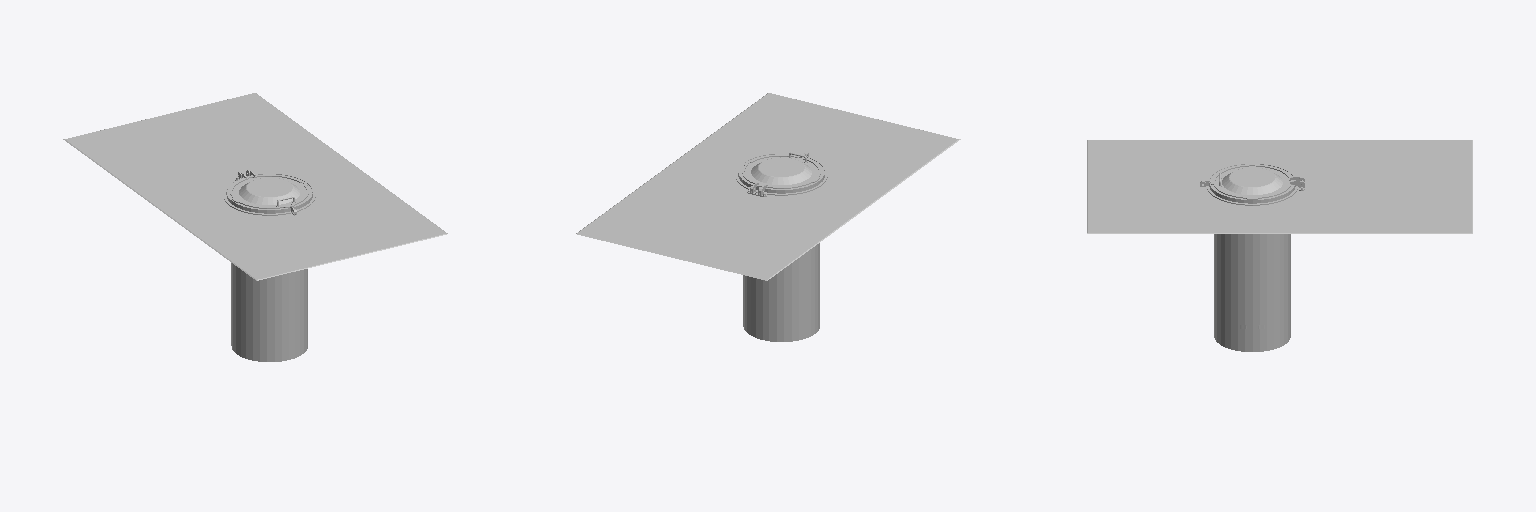
Rendered from floor_manhole_shaft_end_1.obj.
3 views of the same model, side by side, from view 1: azimuth 30°, elevation 25°; view 2: azimuth 150°, elevation 25°; view 3: azimuth 270°, elevation 25° (orthographic).
Visible parts, largest first — view 1: floor_manhole_shaft_end_1, manhole_cover_1; view 2: floor_manhole_shaft_end_1, manhole_cover_1; view 3: floor_manhole_shaft_end_1, manhole_cover_1.
Part boxes in pixels (left/top/right/bottom): floor_manhole_shaft_end_1: left=63, top=93, right=447, bottom=361; manhole_cover_1: left=226, top=170, right=312, bottom=214; floor_manhole_shaft_end_1: left=576, top=93, right=960, bottom=341; manhole_cover_1: left=738, top=152, right=824, bottom=193; floor_manhole_shaft_end_1: left=1087, top=140, right=1472, bottom=351; manhole_cover_1: left=1200, top=164, right=1304, bottom=203.
Bounding box in the file's own units: 4.04 × 3.22 × 7.04.